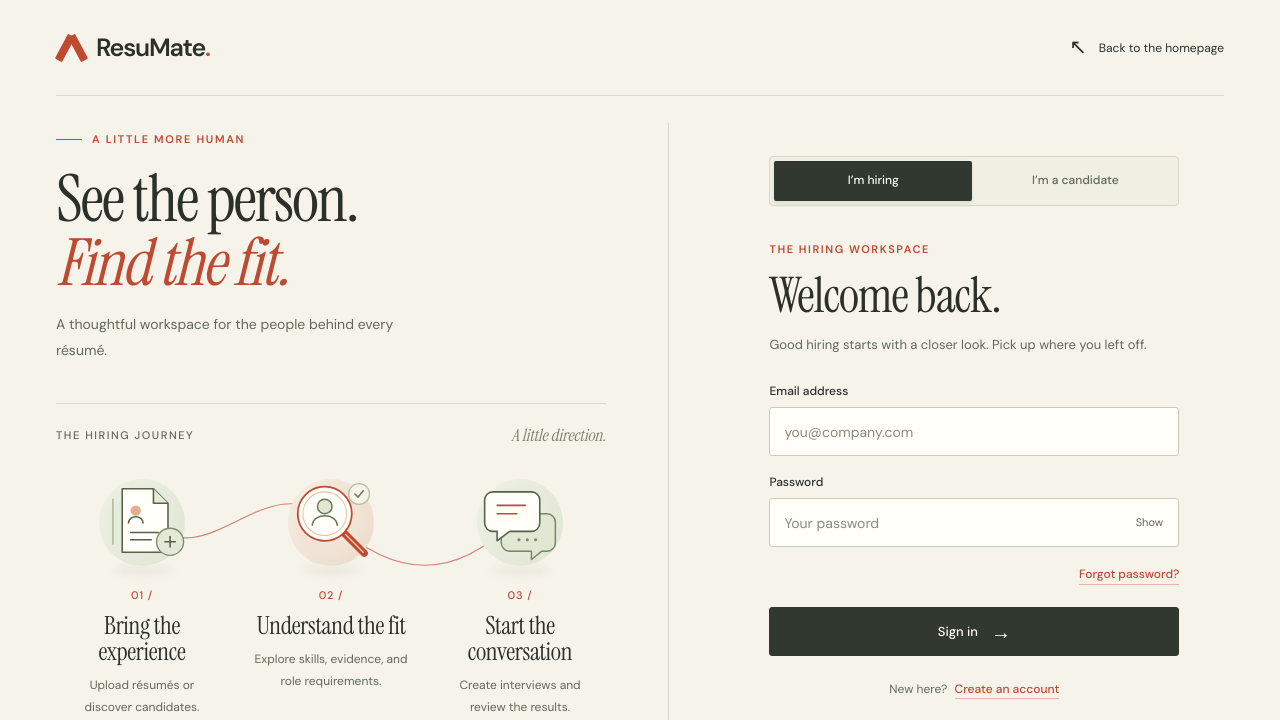
sign-in › offers a way back for a forgotten password
Click the link "Forgot password?": (1129, 574) top-left (1079, 564), bottom-right (1179, 585)
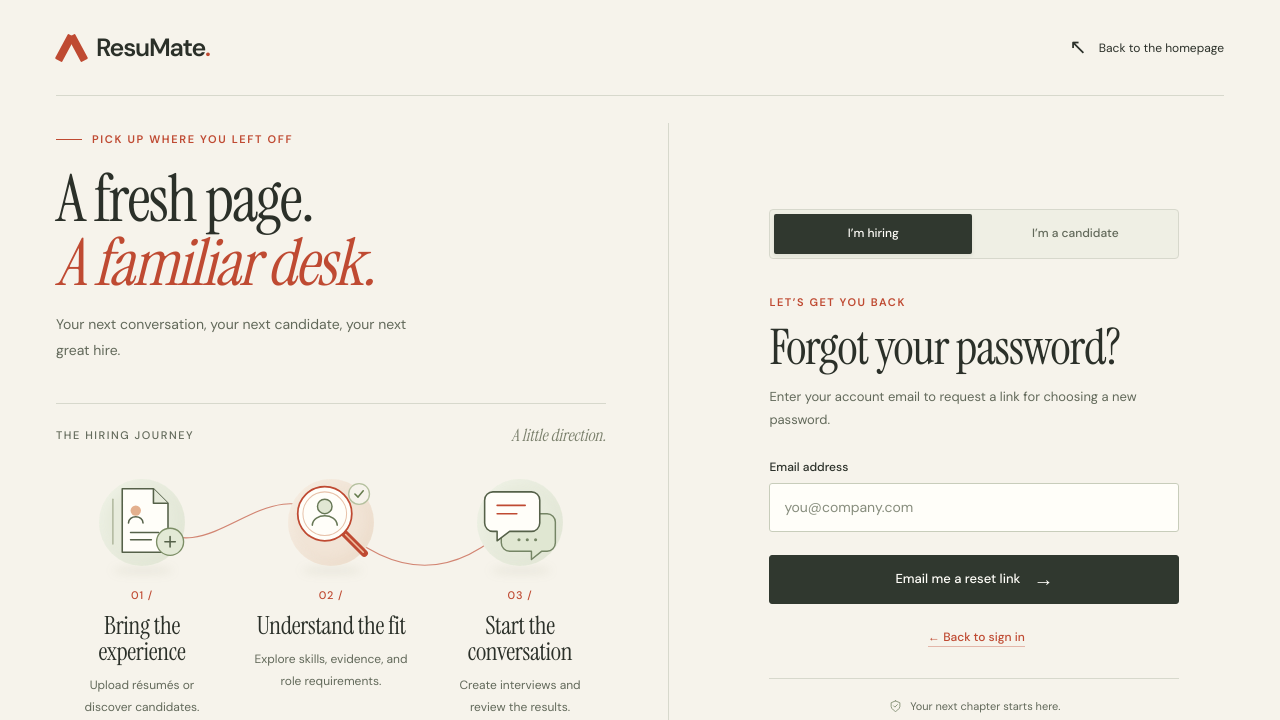
Check: the heading "Forgot your password?" is shown, box top-left (769, 322), bottom-right (1179, 373)
